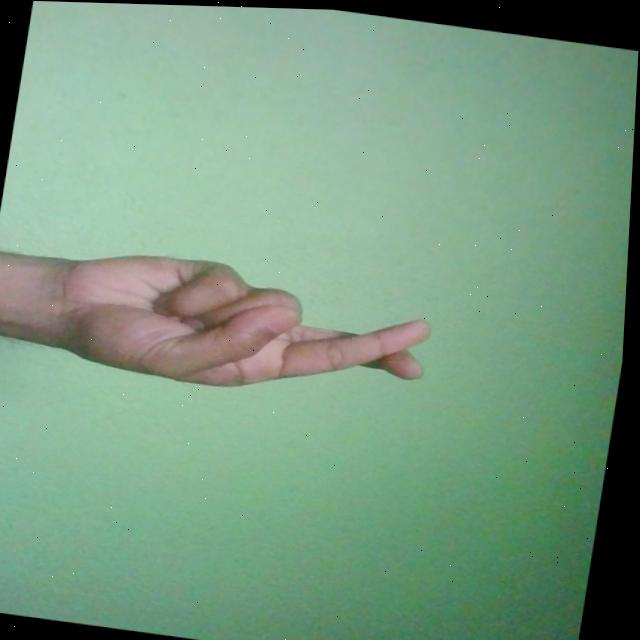Good Luck: (40, 238, 440, 412)
